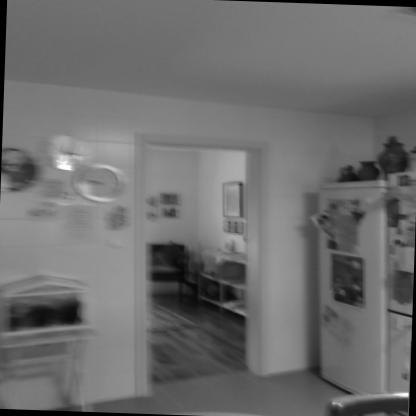open: (120, 124, 280, 384)
